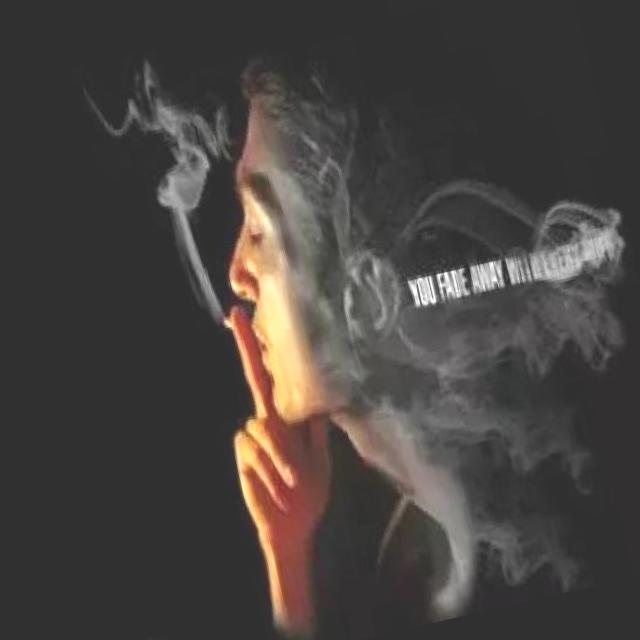smoke: (218, 310, 244, 333)
